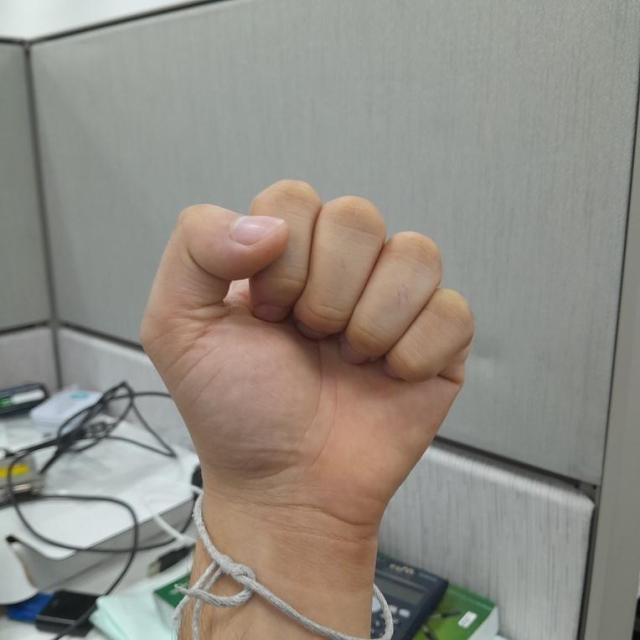fist: (142, 174, 473, 530)
